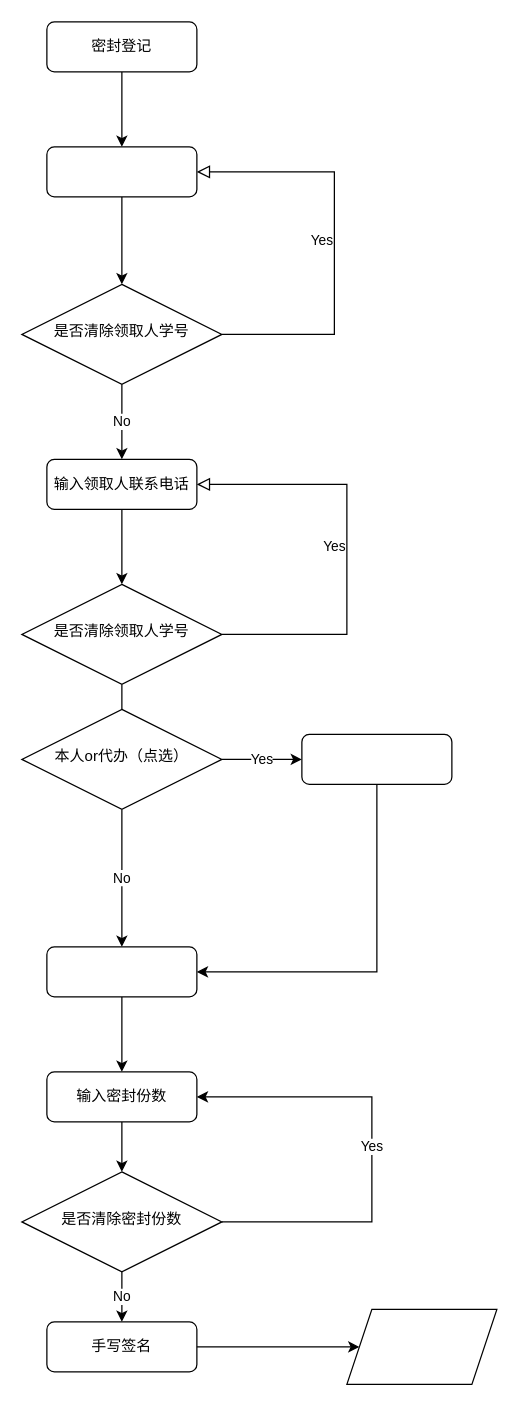
This 519x1406 diagram has some shape labels left out. The shapes that lost their labels are listed below. From the top down, each one's centre as x and y in pixels, then its label:
At [121,171]: "输入领取人学号".
At [376,758]: "输入代办人学号".
At [121,971]: "选择办理人身份类别".
At [421,1346]: "提交表单".
